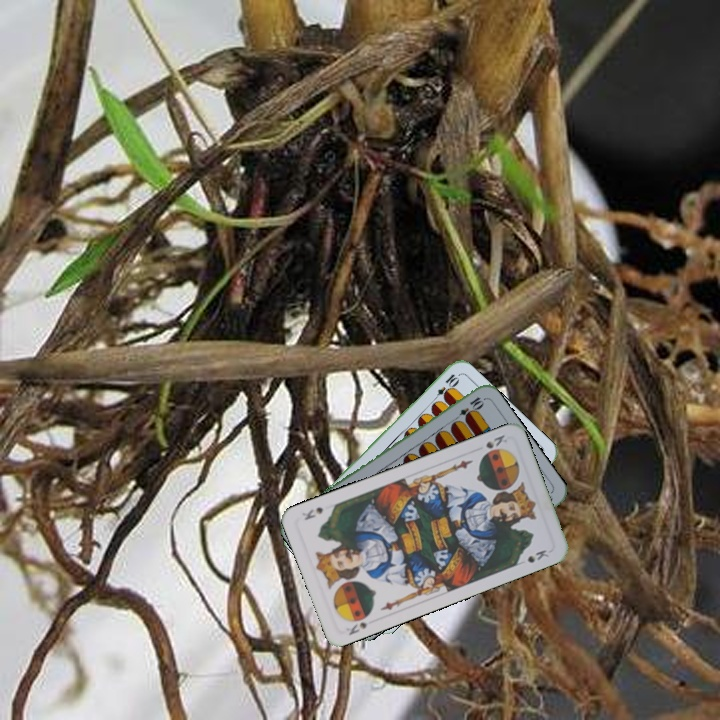E10: (428, 370, 461, 405), (450, 393, 486, 424)
SK: (342, 615, 379, 638), (482, 431, 510, 451)
